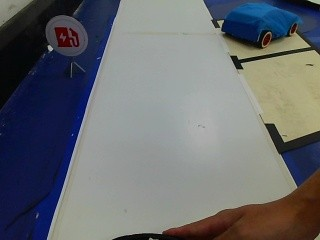battery: (42, 15, 87, 58)
car: (221, 3, 300, 49)
